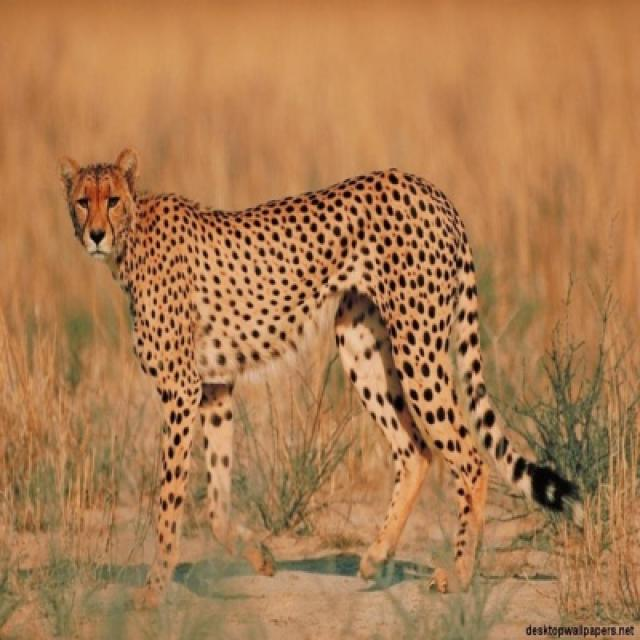Cheetah: (62, 150, 576, 590)
